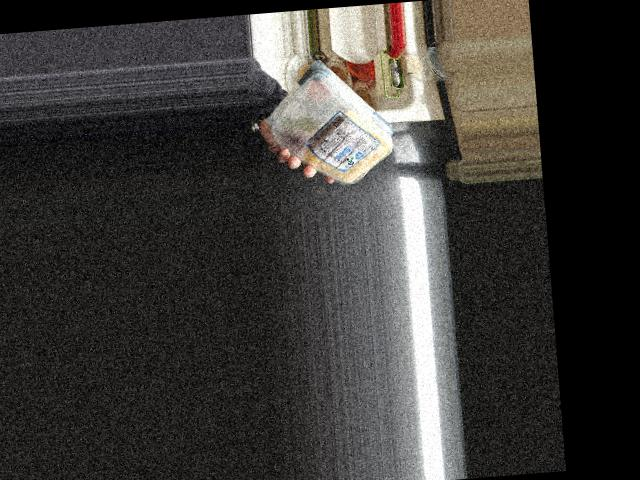cheese: (265, 73, 397, 182)
